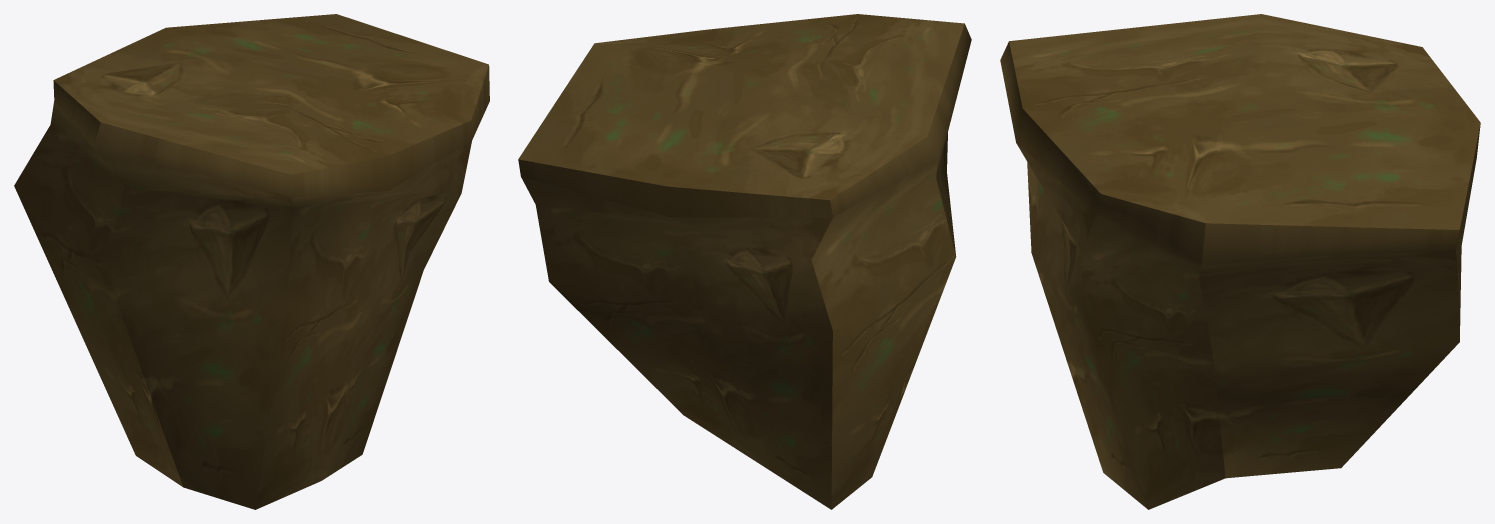
The model's file is floatingRock4.fbx.
The picture shows the model from 3 angles, left to right: view 1: azimuth 30°, elevation 25°; view 2: azimuth 150°, elevation 25°; view 3: azimuth 270°, elevation 25°; orthographic projection. The views are drawn at different scales.
Visible parts, largest first — view 1: Box090; view 2: Box090; view 3: Box090.
Boxes of the visible parts, left/top/right/bottom form: Box090: left=14, top=14, right=489, bottom=509; Box090: left=518, top=14, right=971, bottom=509; Box090: left=1000, top=14, right=1480, bottom=509.
Size of the model in its own units: 30.31 by 29.69 by 30.42.
1 material, 1 textured.
